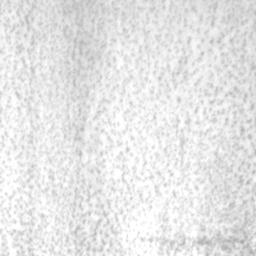Pitted surface: (0, 0, 256, 256), (133, 0, 169, 23)
